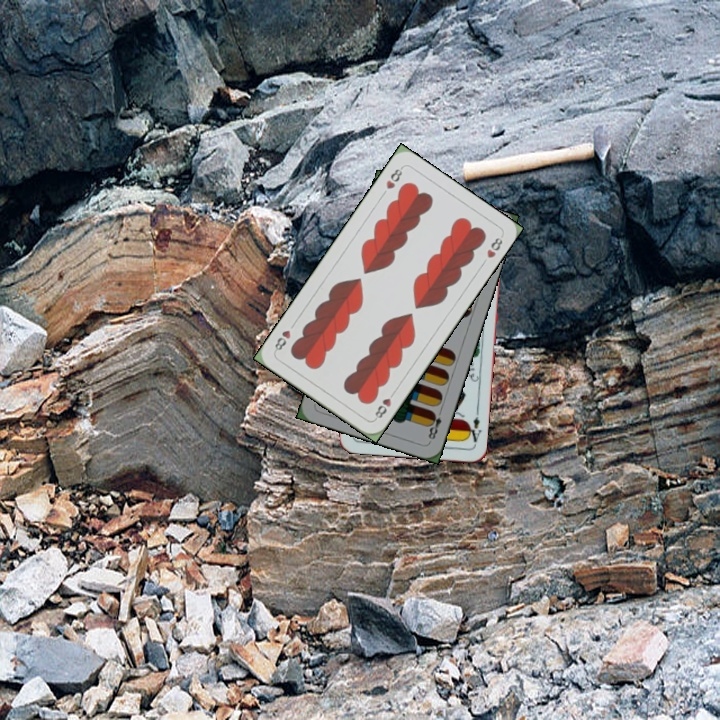E8: (424, 405, 445, 442)
EA: (463, 413, 484, 444)
H8: (370, 387, 398, 422), (382, 163, 405, 192)
